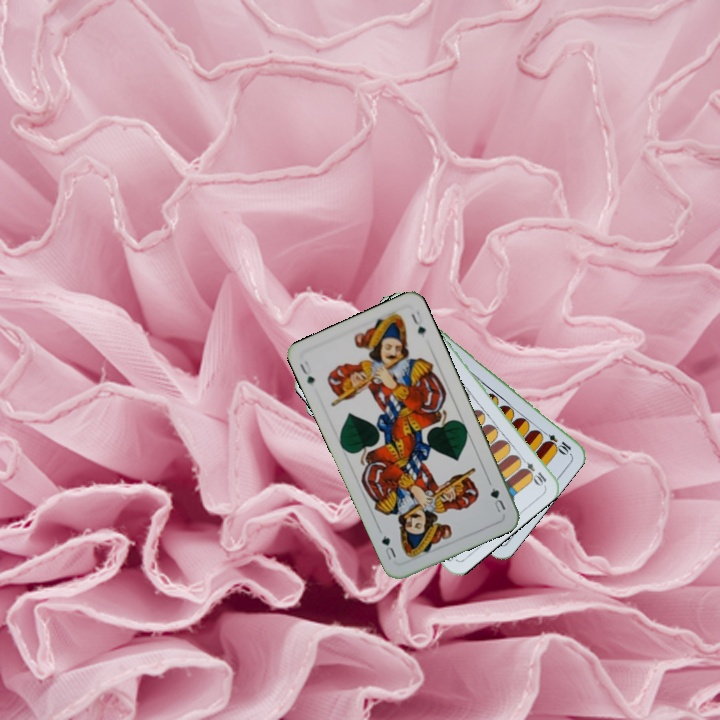E10: (516, 453, 549, 488), (537, 426, 574, 457)
GU: (486, 483, 508, 515), (296, 356, 317, 387)
